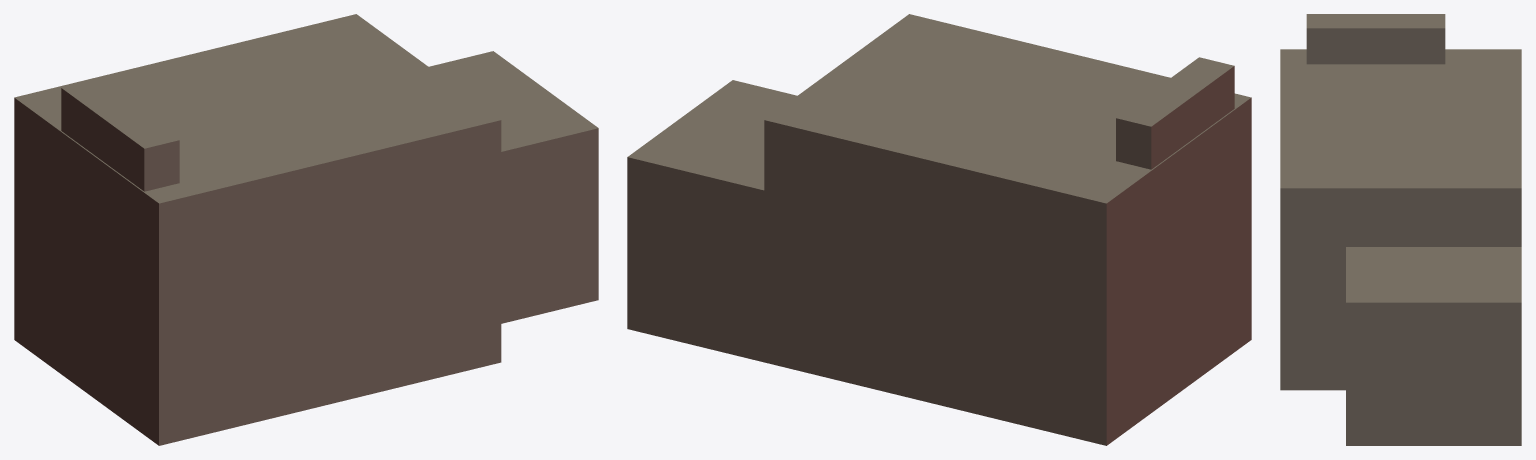
File: ns-garden-apartments.far-facades-v3.lod2.glb
3 views of the same model, side by side, from view 1: azimuth 30°, elevation 25°; view 2: azimuth 150°, elevation 25°; view 3: azimuth 270°, elevation 25° (orthographic). The views are drawn at different scales.
Parts seen in each view (by area): view 1: ns-garden-apartments; view 2: ns-garden-apartments; view 3: ns-garden-apartments.
Boxes of the visible parts, x1=… form: ns-garden-apartments: x1=14, y1=14, x2=598, y2=445; ns-garden-apartments: x1=627, y1=14, x2=1251, y2=445; ns-garden-apartments: x1=1280, y1=14, x2=1521, y2=445.
Size of the model in its own units: 21 by 11.95 by 11.
